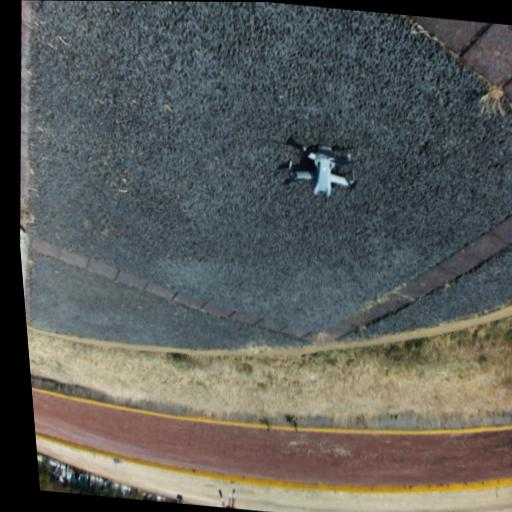drones: (276, 129, 363, 203)
